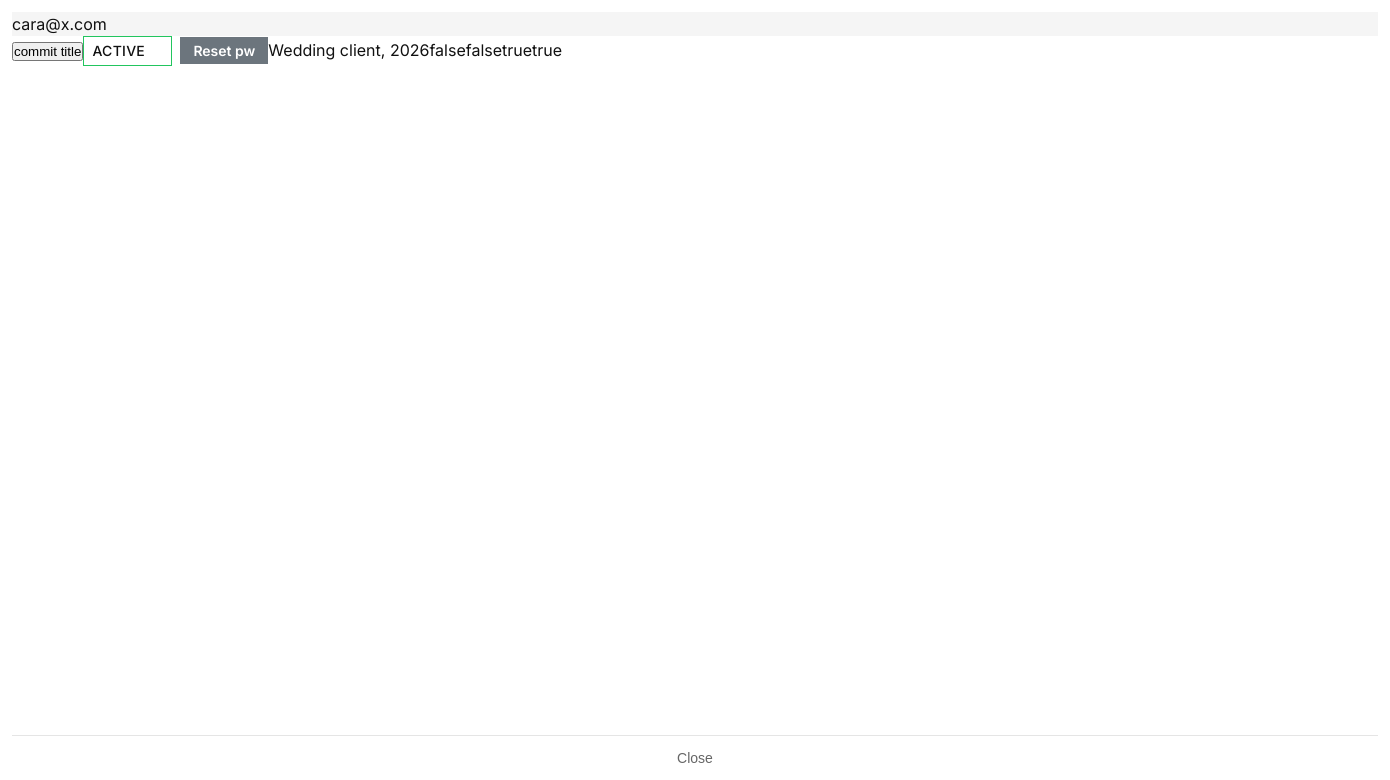
Test case: AdminUserSpaceEditor › rolls the field back and says so when the save fails
Click the button with aria-label "Email": [59, 24] box left=12, top=12, right=1378, bottom=36
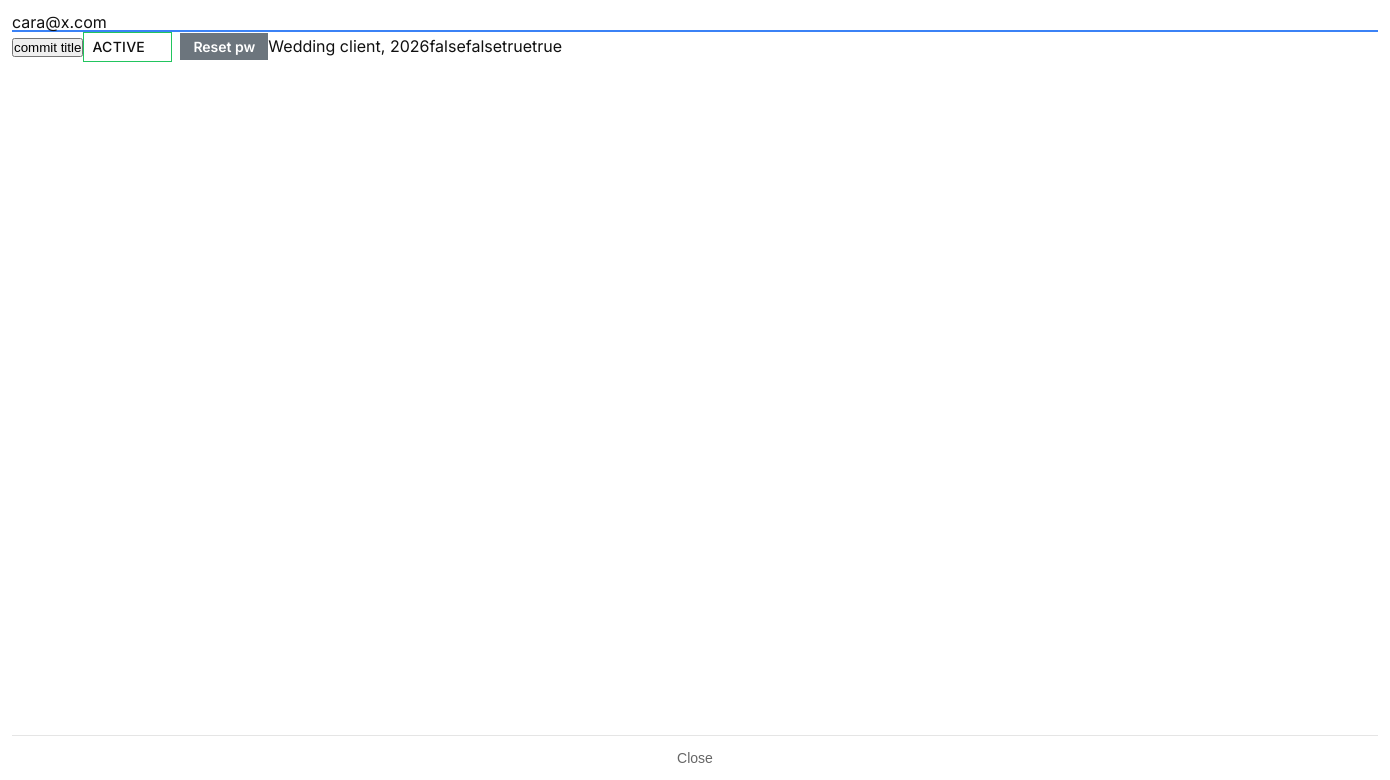
Replace the text in the field named "Email" with "taken@x.com": [695, 22] box left=12, top=12, right=1378, bottom=32
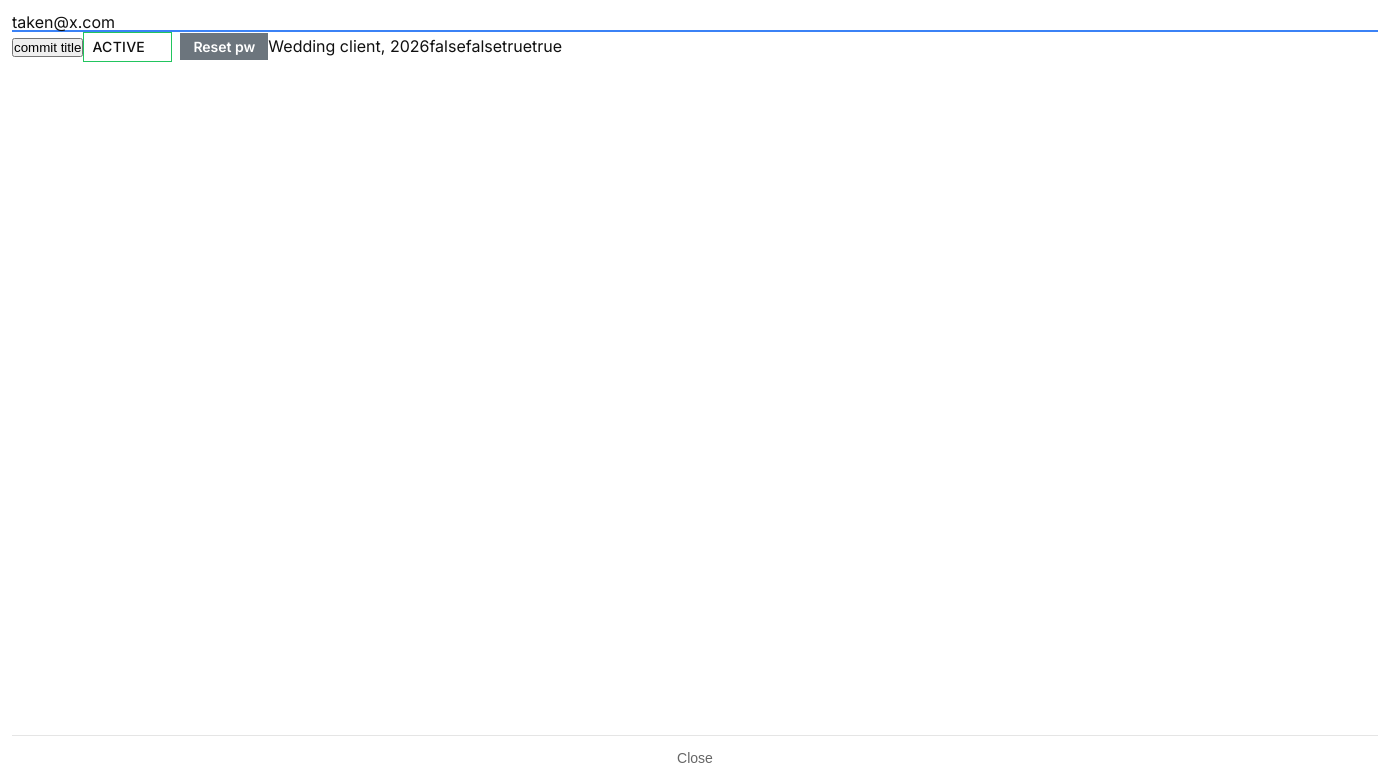
Press Enter in the field named "Email", box left=12, top=12, right=1378, bottom=32
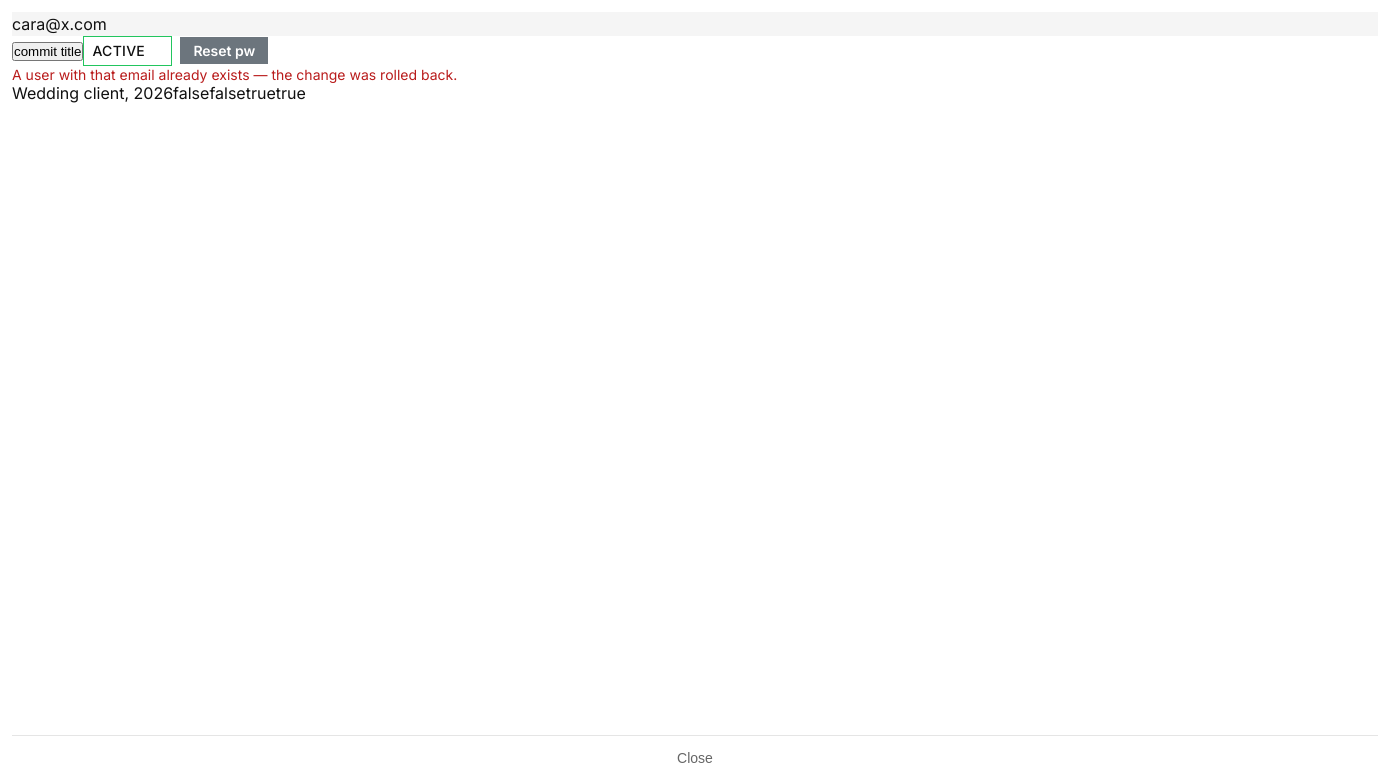
Expected: the message reads "A user with that email already exists — the change was rolled back.", left=12, top=66, right=457, bottom=83
Expected: the button with aria-label "Email" reads "cara@x.com", left=12, top=12, right=1378, bottom=36
